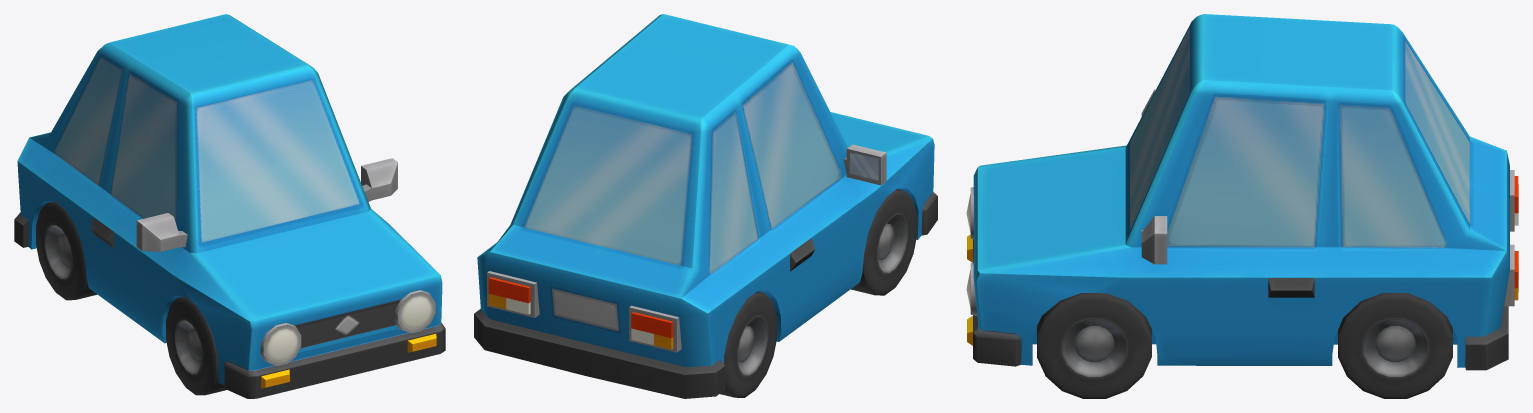
Rendered from car_blue.fbx.
The picture shows the model from 3 angles, left to right: view 1: azimuth 30°, elevation 25°; view 2: azimuth 150°, elevation 25°; view 3: azimuth 270°, elevation 25°; orthographic projection. The views are drawn at different scales.
Visible parts, largest first — view 1: car_blue; view 2: car_blue; view 3: car_blue.
Part boxes in pixels (box(x1,y1,x2,y2)): car_blue: box(14, 14, 445, 398); car_blue: box(474, 14, 937, 398); car_blue: box(966, 14, 1518, 398).
Bounding box in the file's own units: 0.6556 × 0.6193 × 1.06.
